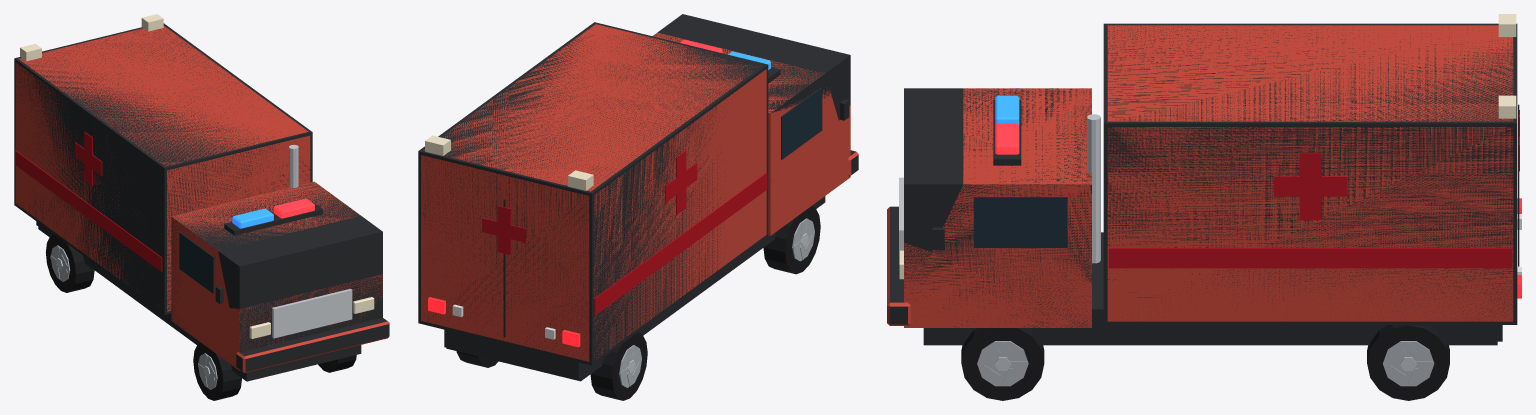
File: VEH_Ambulance.fbx
3 views of the same model, side by side, from view 1: azimuth 30°, elevation 25°; view 2: azimuth 150°, elevation 25°; view 3: azimuth 270°, elevation 25° (orthographic). The views are drawn at different scales.
Parts seen in each view (by area): view 1: VEH_Ambulance__BODY, VEH_Ambulance__COL_Box, VEH_Ambulance__COL_Cab, VEH_Ambulance__WHEEL_RR, VEH_Ambulance__WHEEL_FR, VEH_Ambulance__COL_Frame, VEH_Ambulance__LIGHTS, VEH_Ambulance__SIREN_B, VEH_Ambulance__SIREN_R, VEH_Ambulance__EXHAUST, VEH_Ambulance__WHEEL_FL; view 2: VEH_Ambulance__BODY, VEH_Ambulance__COL_Box, VEH_Ambulance__COL_Cab, VEH_Ambulance__WHEEL_RR, VEH_Ambulance__WHEEL_FR, VEH_Ambulance__LIGHTS, VEH_Ambulance__COL_Frame; view 3: VEH_Ambulance__BODY, VEH_Ambulance__COL_Box, VEH_Ambulance__COL_Cab, VEH_Ambulance__COL_Frame, VEH_Ambulance__WHEEL_RL, VEH_Ambulance__WHEEL_FL, VEH_Ambulance__EXHAUST, VEH_Ambulance__LIGHTS, VEH_Ambulance__SIREN_R, VEH_Ambulance__SIREN_B.
Boxes of the visible parts, <box> form: VEH_Ambulance__BODY: <box>15,26,389,374</box>; VEH_Ambulance__COL_Box: <box>14,23,312,314</box>; VEH_Ambulance__COL_Cab: <box>171,182,382,370</box>; VEH_Ambulance__WHEEL_RR: <box>45,234,94,292</box>; VEH_Ambulance__WHEEL_FR: <box>193,343,241,400</box>; VEH_Ambulance__COL_Frame: <box>38,223,361,381</box>; VEH_Ambulance__LIGHTS: <box>20,14,374,339</box>; VEH_Ambulance__SIREN_B: <box>232,208,273,228</box>; VEH_Ambulance__SIREN_R: <box>273,198,314,218</box>; VEH_Ambulance__EXHAUST: <box>289,144,298,187</box>; VEH_Ambulance__WHEEL_FL: <box>318,355,356,372</box>; VEH_Ambulance__BODY: <box>421,24,858,379</box>; VEH_Ambulance__COL_Box: <box>418,22,768,365</box>; VEH_Ambulance__COL_Cab: <box>653,14,850,199</box>; VEH_Ambulance__WHEEL_RR: <box>590,332,647,400</box>; VEH_Ambulance__WHEEL_FR: <box>763,206,820,274</box>; VEH_Ambulance__LIGHTS: <box>425,135,593,347</box>; VEH_Ambulance__COL_Frame: <box>446,196,825,381</box>; VEH_Ambulance__BODY: <box>887,25,1519,341</box>; VEH_Ambulance__COL_Box: <box>1103,23,1517,324</box>; VEH_Ambulance__COL_Cab: <box>904,88,1091,327</box>; VEH_Ambulance__COL_Frame: <box>923,232,1497,345</box>; VEH_Ambulance__WHEEL_RL: <box>1367,325,1449,400</box>; VEH_Ambulance__WHEEL_FL: <box>961,328,1044,400</box>; VEH_Ambulance__EXHAUST: <box>1087,114,1100,263</box>; VEH_Ambulance__LIGHTS: <box>899,14,1521,298</box>; VEH_Ambulance__SIREN_R: <box>995,123,1019,154</box>; VEH_Ambulance__SIREN_B: <box>995,95,1019,124</box>.
Size of the model in its own units: 2.6 by 3.3 by 6.41.
